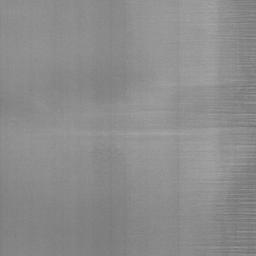Waist folding: (88, 64, 256, 138), (185, 177, 256, 256), (185, 144, 256, 167), (208, 4, 256, 24), (241, 37, 256, 43)
